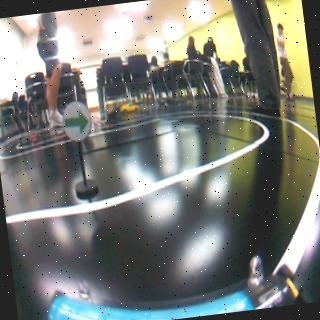right: (59, 100, 95, 144)
